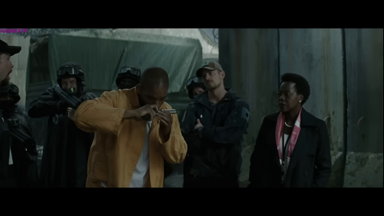firearm: (51, 81, 84, 109), (145, 107, 180, 121)
